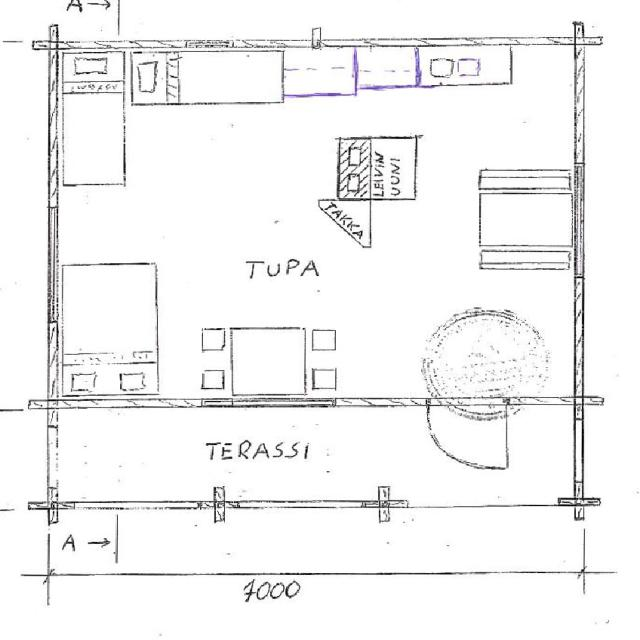door: (438, 395, 473, 422), (503, 398, 525, 419)
window: (87, 570, 119, 579)
zone: (54, 265, 157, 363), (504, 402, 579, 506), (54, 91, 126, 188), (174, 51, 284, 105), (232, 327, 307, 399), (47, 507, 118, 575), (414, 43, 512, 88), (347, 136, 414, 199), (281, 47, 356, 97), (354, 44, 417, 89), (81, 360, 155, 398), (58, 51, 125, 92), (128, 53, 176, 107)
